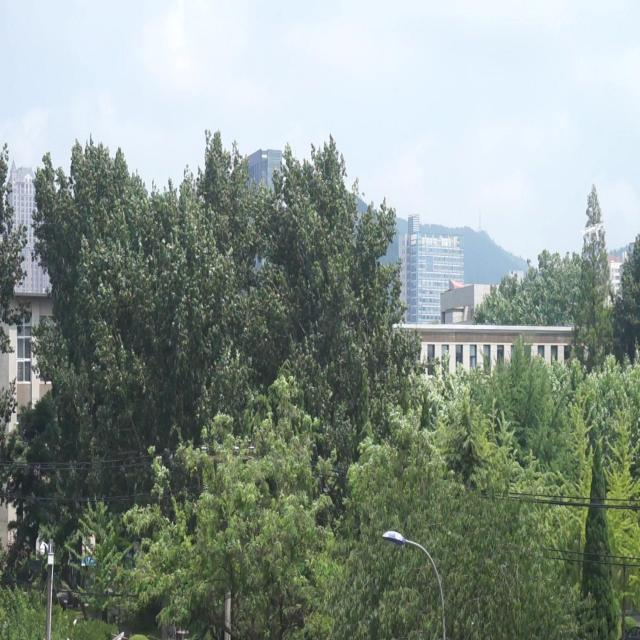UAV: (580, 223, 604, 243)
